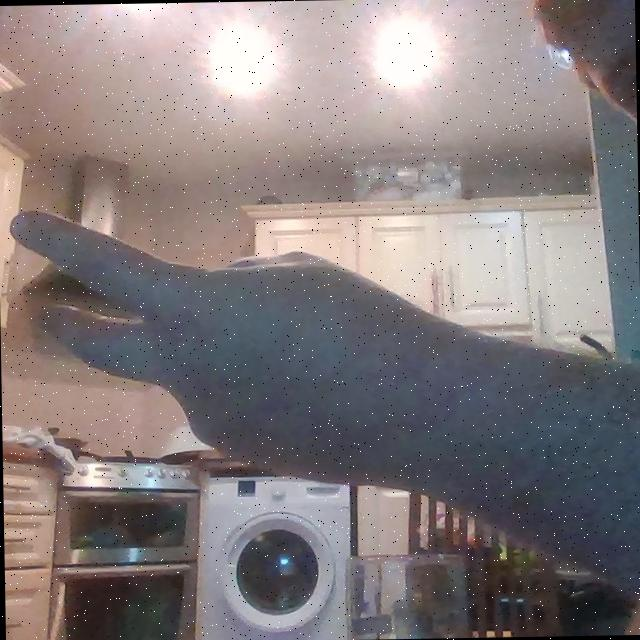scissors: (8, 200, 401, 478)
